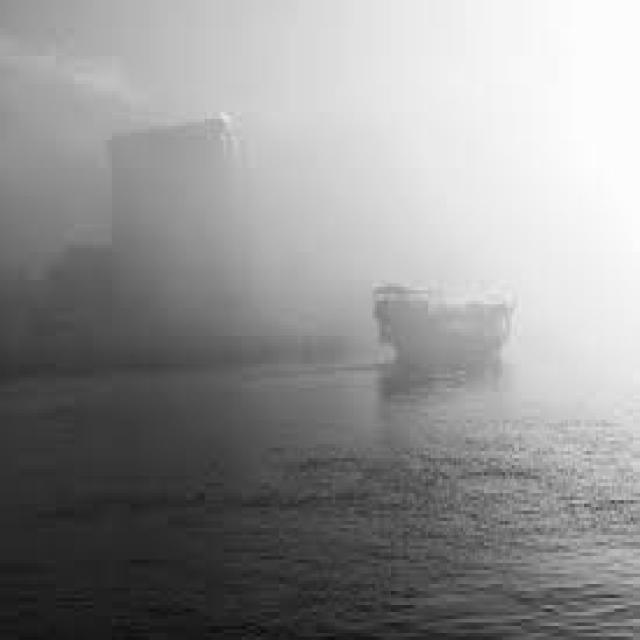cargoship: (368, 263, 519, 364)
